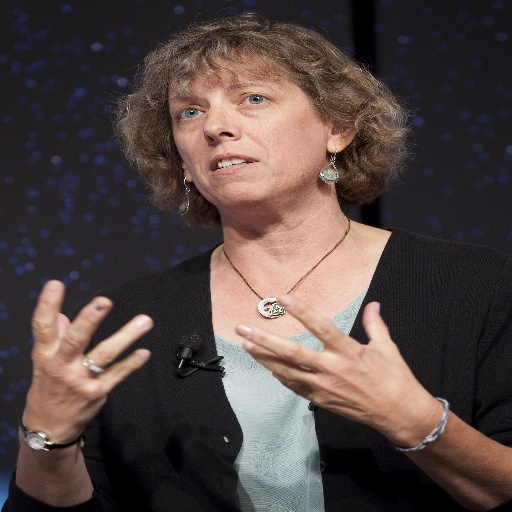hand: (244, 298, 447, 451), (29, 277, 157, 444)
